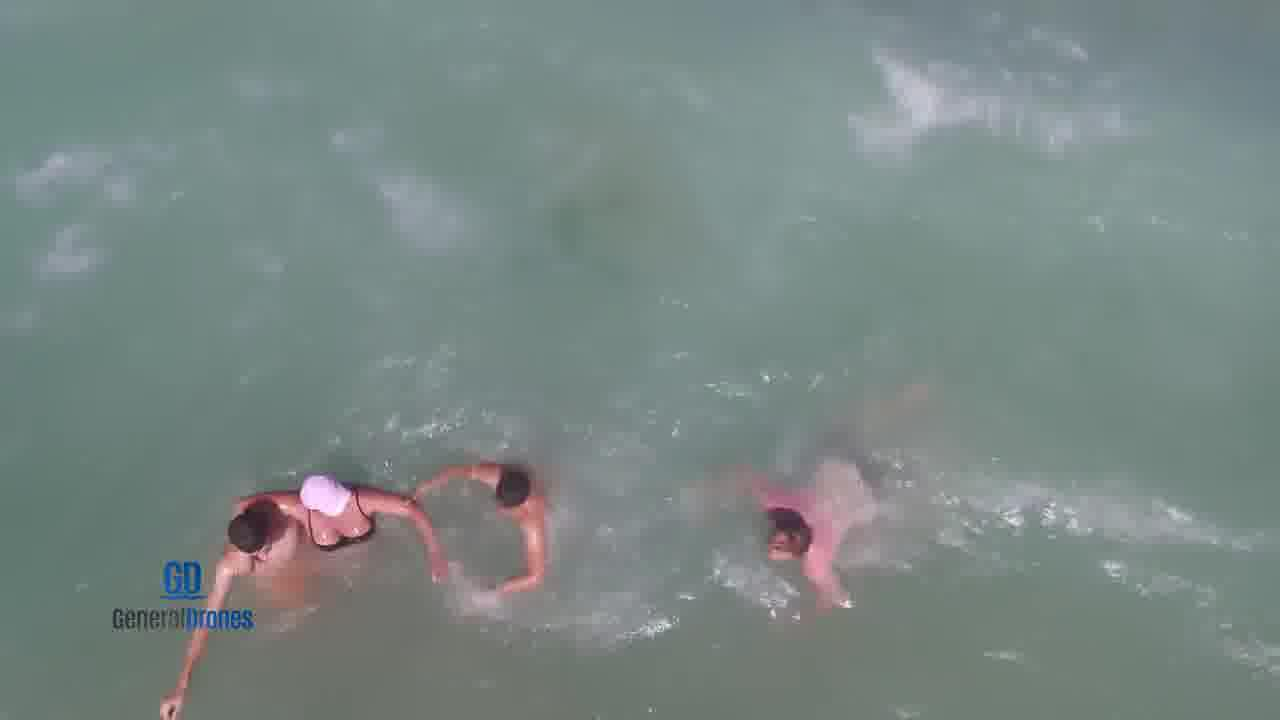human: (731, 439, 888, 617), (273, 463, 462, 598), (413, 464, 566, 602), (201, 501, 316, 603)
